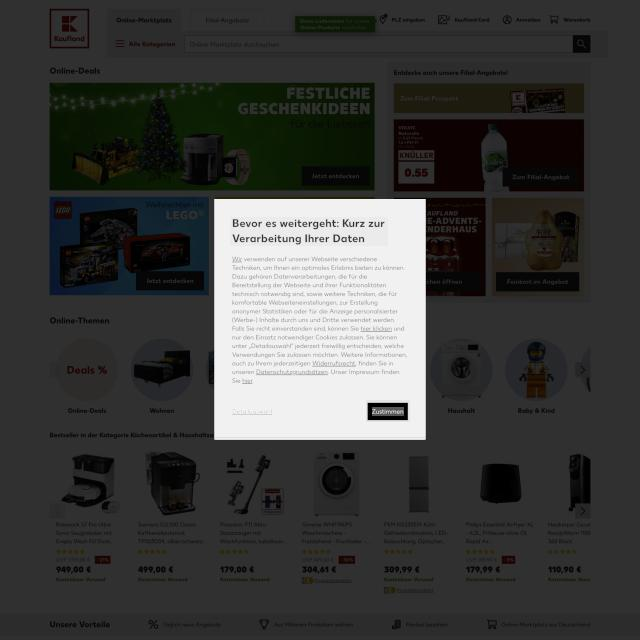CheckBox: (366, 402, 410, 424), (232, 409, 274, 420)
data feed: (372, 409, 404, 418)
header: (214, 200, 426, 440)
image: (230, 219, 388, 248)
